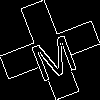M: (25, 25, 80, 83)
